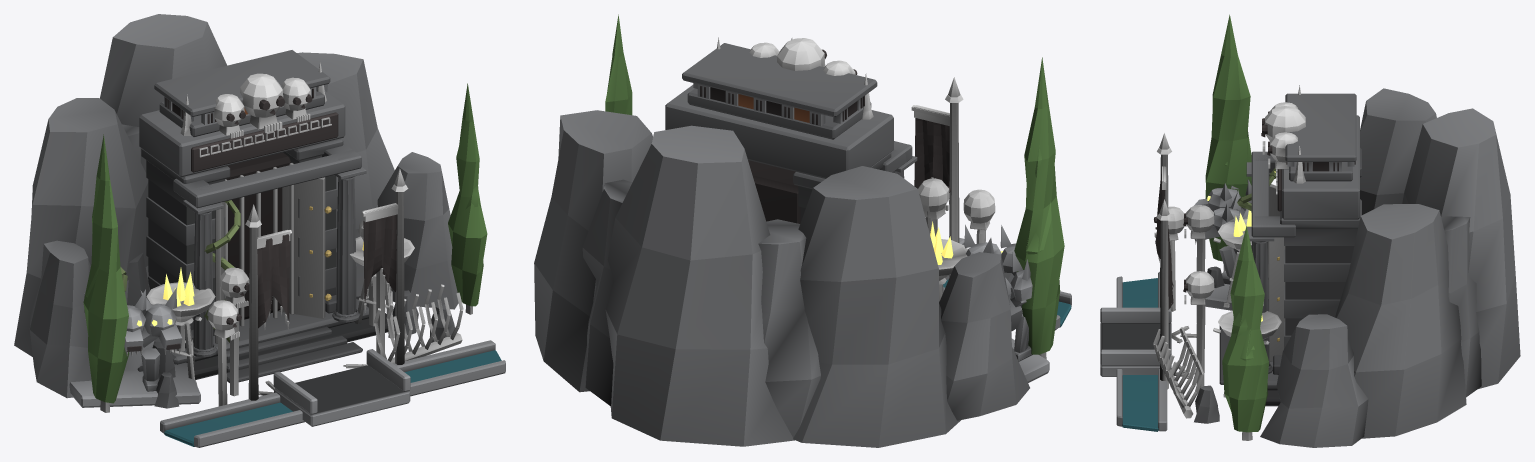
File: gate-of-hades-l2.glb
3 views of the same model, side by side, from view 1: azimuth 30°, elevation 25°; view 2: azimuth 150°, elevation 25°; view 3: azimuth 270°, elevation 25° (orthographic). The views are drawn at different scales.
Parts seen in each view (by area): view 1: gate-of-hades-l2; view 2: gate-of-hades-l2; view 3: gate-of-hades-l2.
Boxes of the visible parts, box(x1,y1,x2,y2) form: gate-of-hades-l2: box(14, 14, 505, 447); gate-of-hades-l2: box(534, 14, 1071, 447); gate-of-hades-l2: box(1100, 14, 1520, 447).
Bounding box in the file's own units: 1.59 × 1.02 × 1.49.
